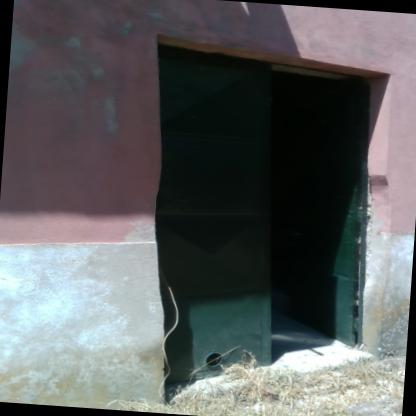semi: (127, 39, 397, 388)
